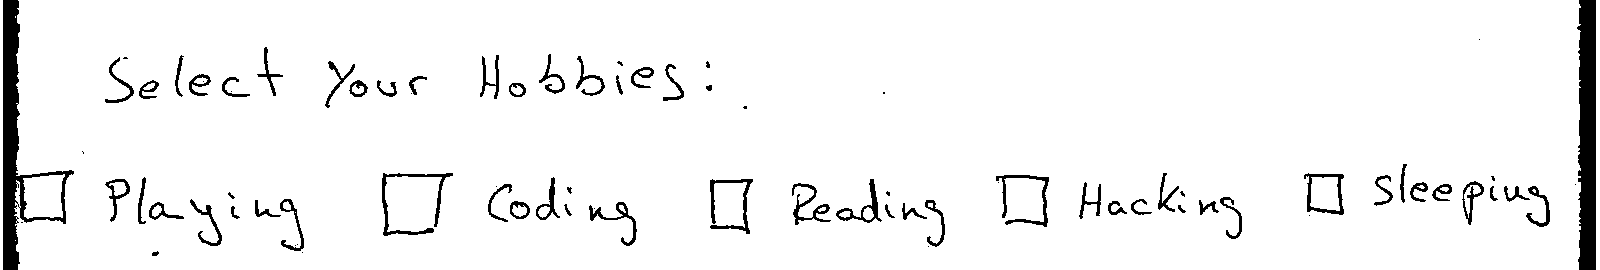Check Box: (14, 158, 314, 258), (990, 160, 1247, 250), (374, 160, 643, 246), (700, 171, 953, 258), (1298, 158, 1559, 236)
